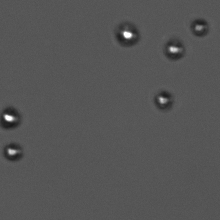Living Cell: (115, 23, 140, 47), (1, 106, 22, 130), (163, 39, 185, 59), (2, 142, 25, 161), (154, 89, 174, 110), (190, 19, 210, 37)
